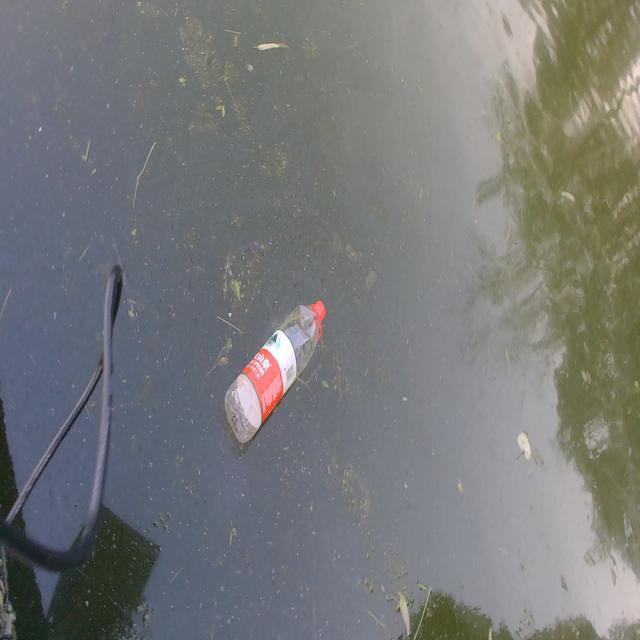bottle: (208, 266, 342, 461)
